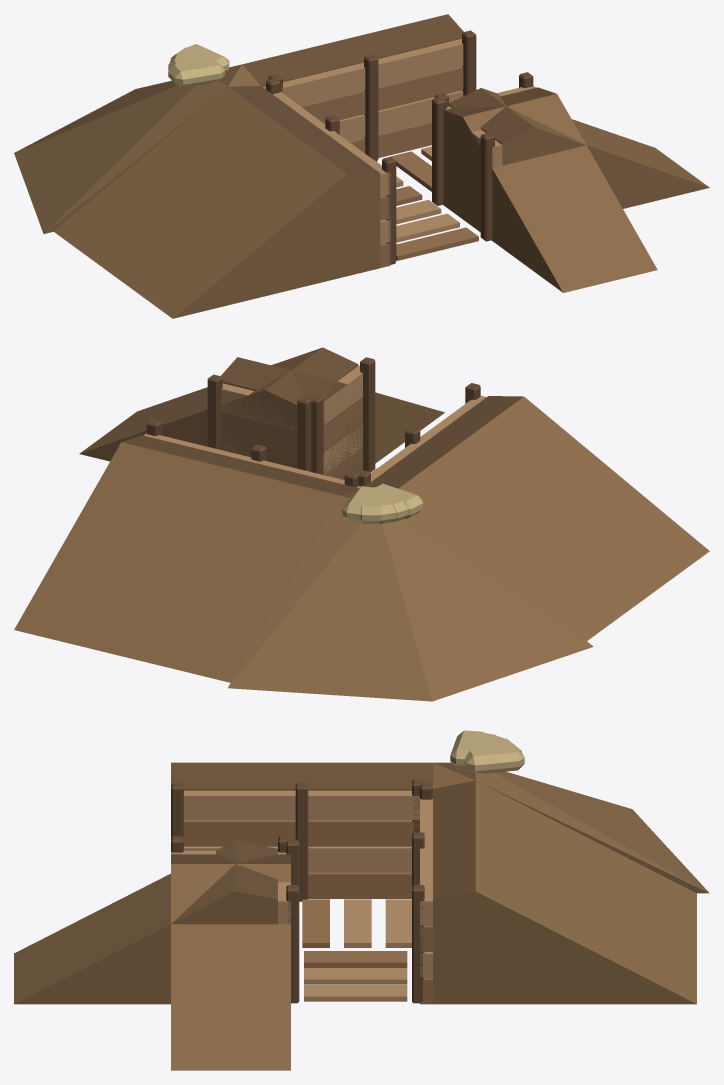
File: trench_corner.glb
3 views of the same model, one above another, from view 1: azimuth 30°, elevation 25°; view 2: azimuth 150°, elevation 25°; view 3: azimuth 270°, elevation 25° (orthographic). The views are drawn at different scales.
Visible parts, largest first — view 1: LOD0; view 2: LOD0; view 3: LOD0.
Part boxes in pixels (x1,y1,x2,y2): LOD0: (14, 14, 709, 318); LOD0: (14, 347, 709, 701); LOD0: (14, 730, 709, 1070).
Size of what is drawn, in the model's own units: 7.54 by 1.52 by 7.54.
1 material, 1 textured.
